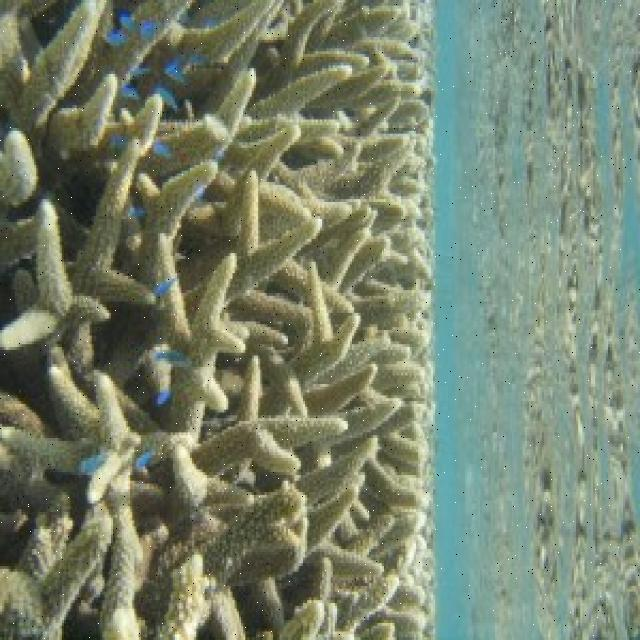Bleached: (4, 1, 437, 640)
